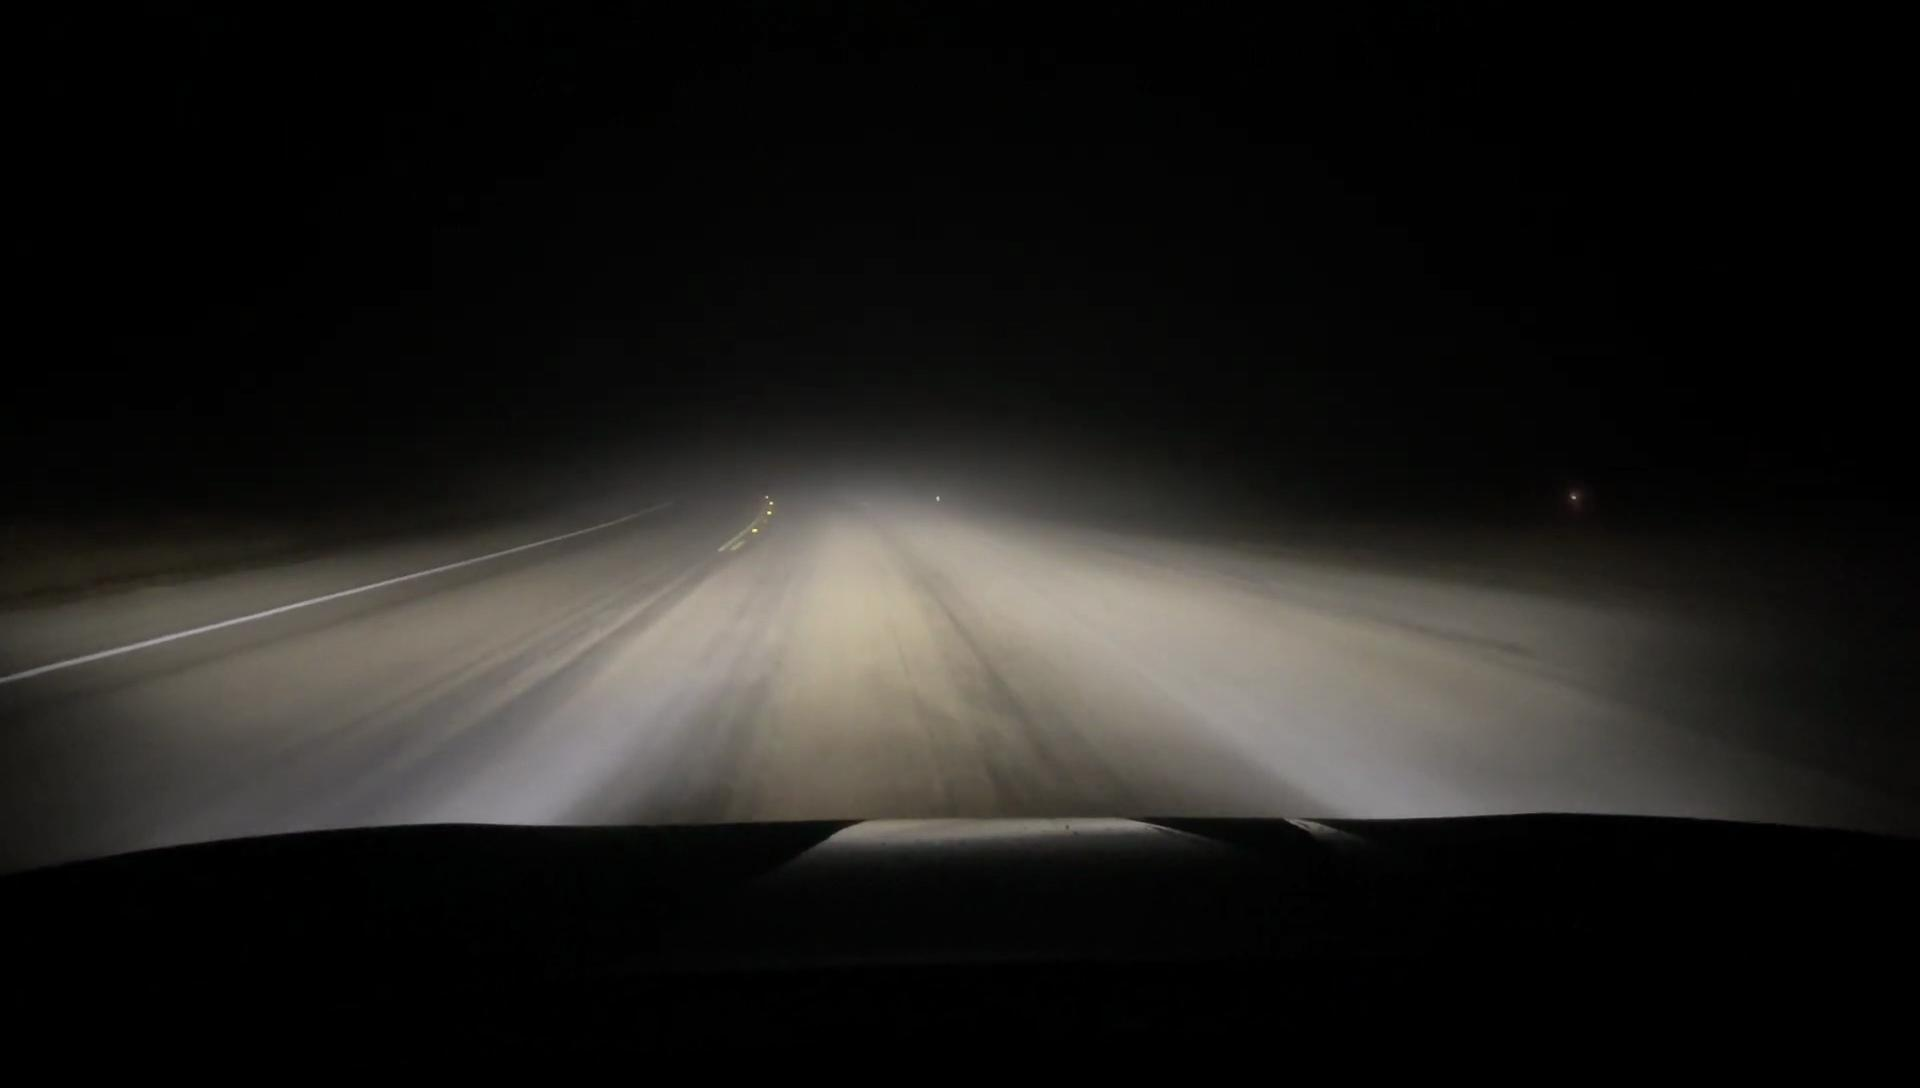road-lanes: (369, 484, 1609, 827)
